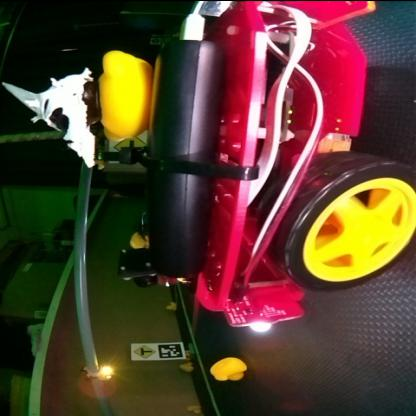Duckie: (3, 51, 152, 166), (209, 356, 245, 380), (130, 234, 147, 249), (180, 362, 192, 372), (188, 405, 200, 412), (166, 302, 176, 310)
Duckiebot: (174, 4, 414, 326)
Intersection sign: (132, 344, 156, 359)
QR code: (157, 342, 183, 359)
Traffic light: (97, 365, 113, 379)
